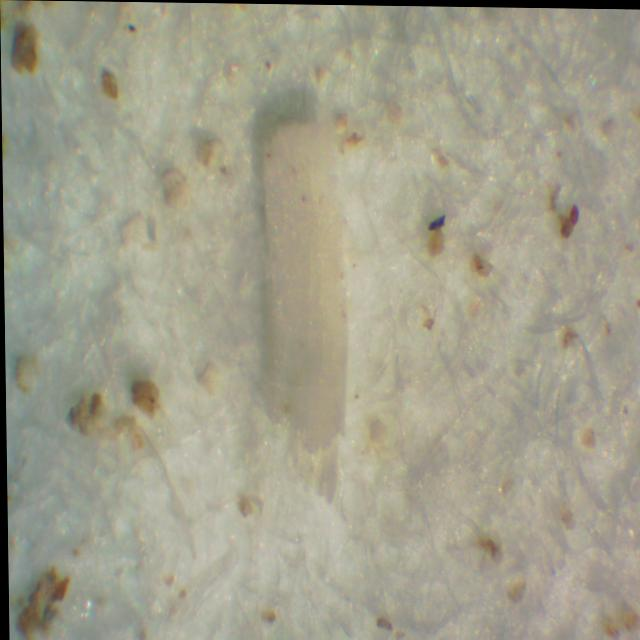microplastic: (264, 125, 348, 449)
